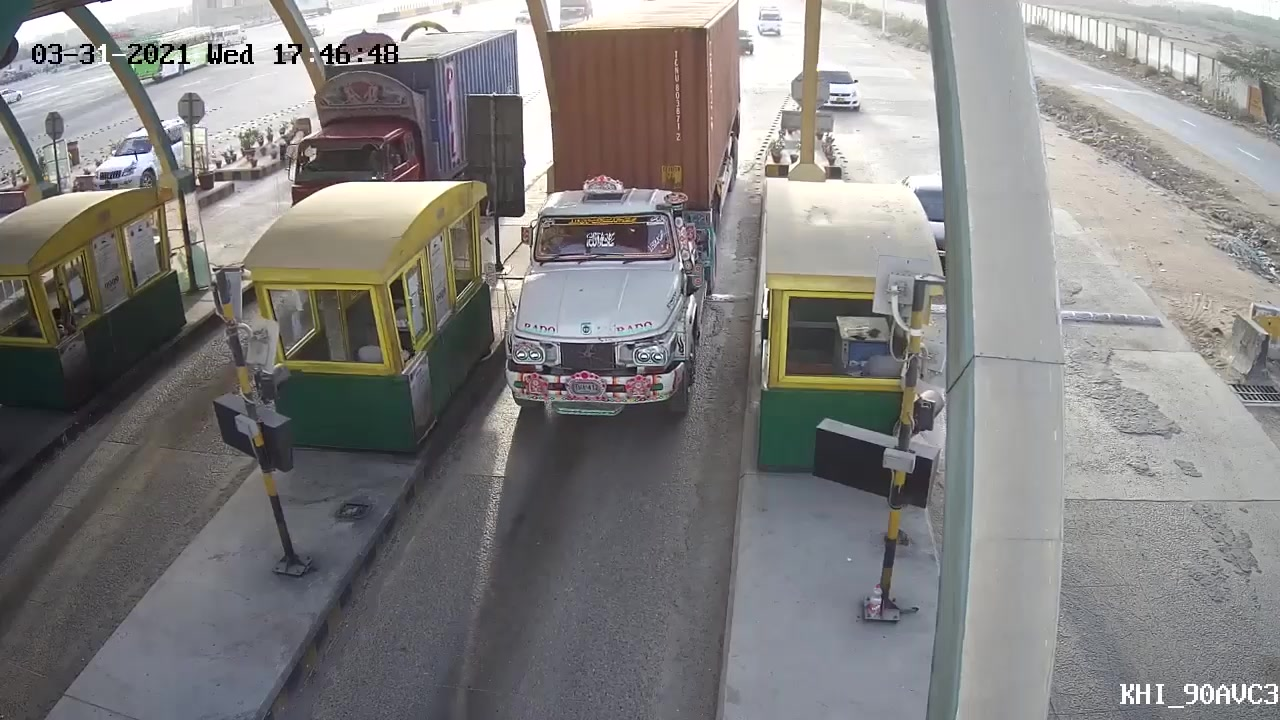F1: (516, 14, 724, 429)
